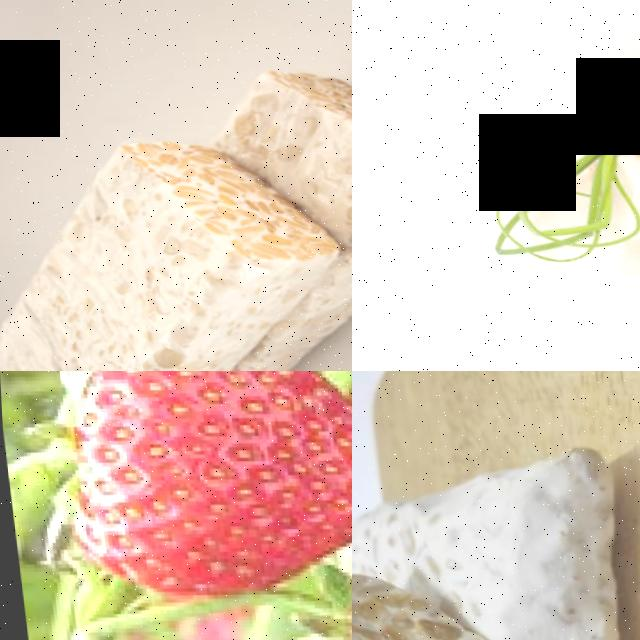strawberry: (49, 371, 352, 605)
tempeh: (75, 129, 351, 347), (425, 433, 638, 640), (205, 49, 352, 247), (0, 315, 280, 371), (352, 564, 462, 640)
tofu: (507, 52, 614, 132), (454, 86, 528, 181), (556, 8, 640, 57), (609, 41, 640, 140)
